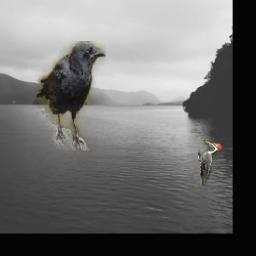Crow: (36, 41, 106, 150)
Woodpecker: (199, 141, 222, 187)
